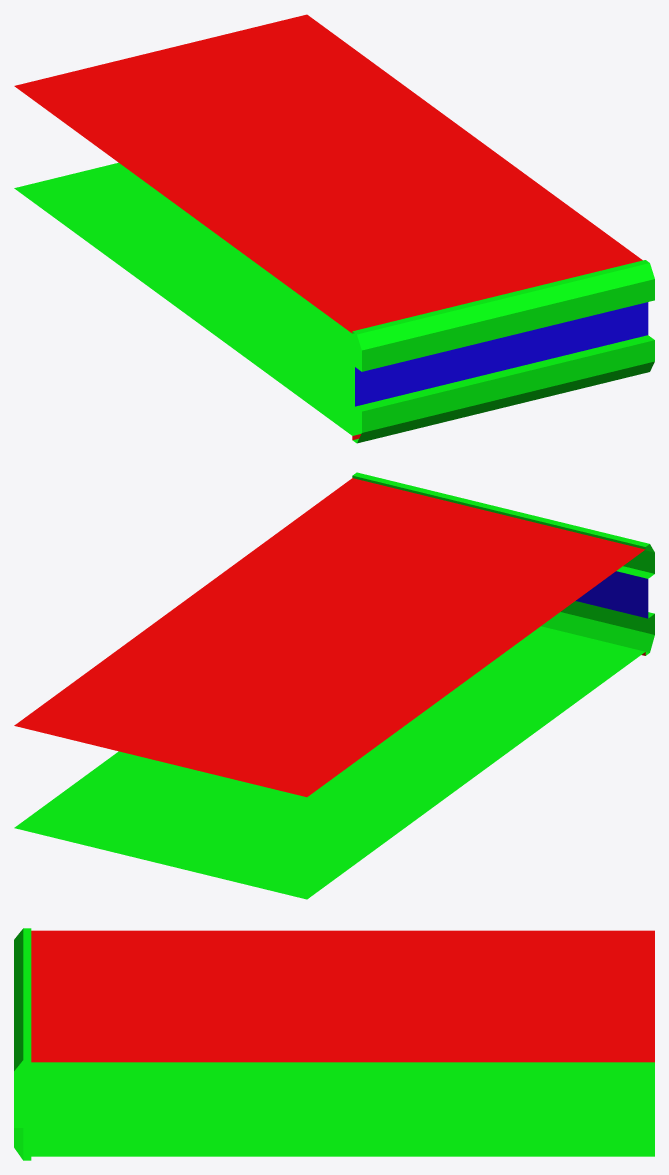
File: Floor1.FBX
3 renders of one model, top to bottom at view 1: azimuth 30°, elevation 25°; view 2: azimuth 150°, elevation 25°; view 3: azimuth 270°, elevation 25°, orthographic. The views are drawn at different scales.
Visible parts, largest first — view 1: Floor_low002, Object006; view 2: Floor_low002, Object006; view 3: Floor_low002, Object006.
Boxes of the visible parts, box(x1,y1,x2,y2) form: Floor_low002: box(14, 14, 642, 435); Object006: box(352, 260, 654, 443); Floor_low002: box(14, 478, 645, 899); Object006: box(352, 472, 654, 655); Floor_low002: box(31, 930, 654, 1156); Object006: box(14, 928, 31, 1160).
Bounding box in the file's own units: 300 × 107 × 617.
